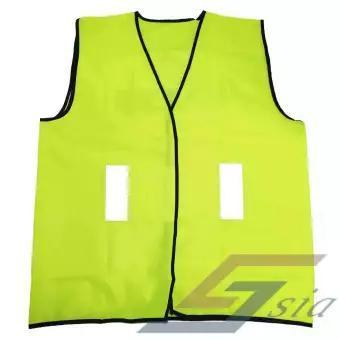vest: (25, 8, 313, 330)
